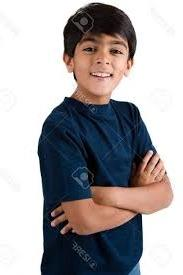Human: (37, 5, 171, 273)
